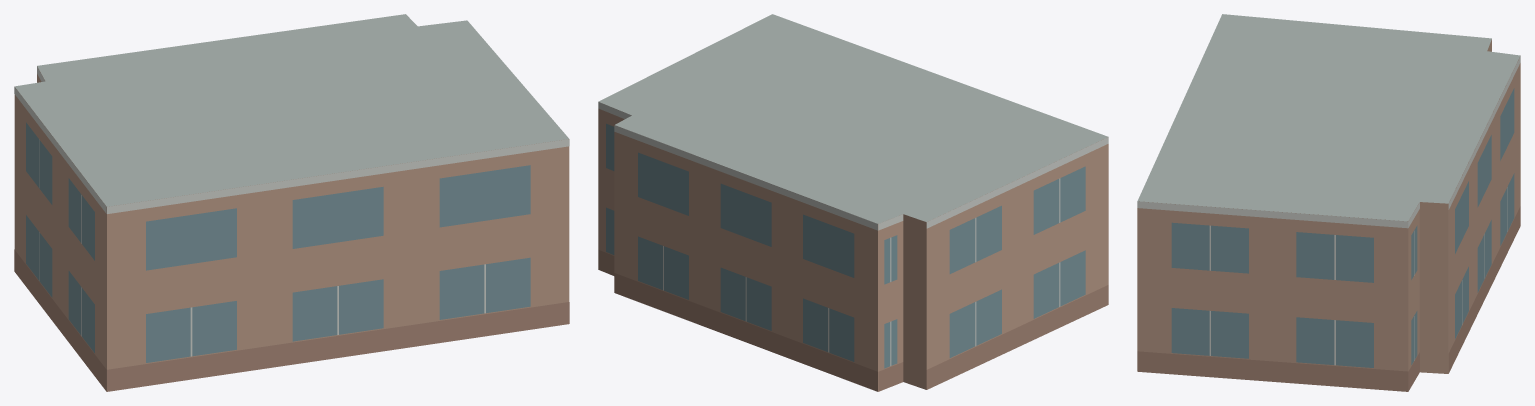
Rendered from survey-upis-32954171.glb.
3 renders of one model, left to right at view 1: azimuth 30°, elevation 25°; view 2: azimuth 150°, elevation 25°; view 3: azimuth 270°, elevation 25°, orthographic. The views are drawn at different scales.
Visible parts, largest first — view 1: survey-upis-32954171.tmp; view 2: survey-upis-32954171.tmp; view 3: survey-upis-32954171.tmp.
Boxes of the visible parts, x1=… form: survey-upis-32954171.tmp: x1=14, y1=14, x2=569, y2=391; survey-upis-32954171.tmp: x1=598, y1=14, x2=1108, y2=391; survey-upis-32954171.tmp: x1=1137, y1=14, x2=1520, y2=391.
Bounding box in the file's own units: 15.93 × 6.1 × 12.44.
